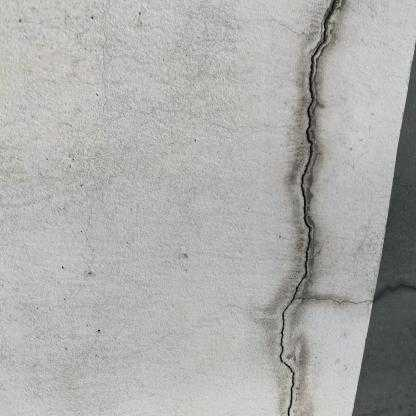crack: (279, 0, 416, 416)
